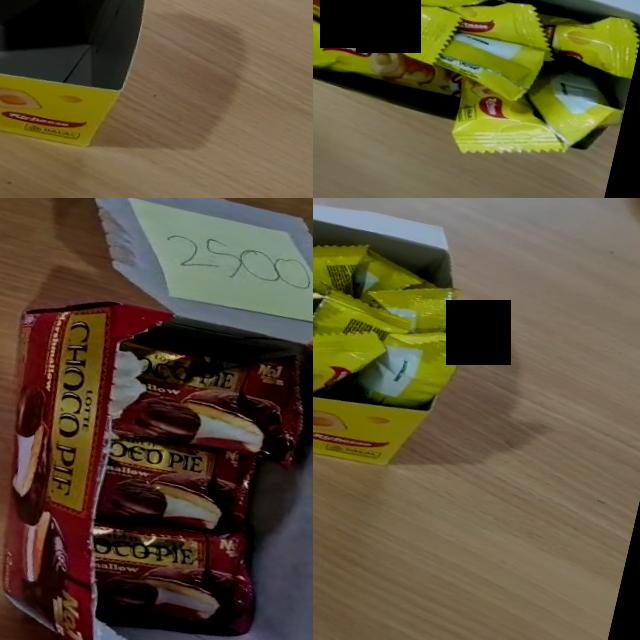Ahh: (313, 9, 469, 107), (444, 74, 575, 176), (513, 52, 632, 159), (346, 332, 486, 409), (313, 0, 464, 68), (427, 24, 548, 107), (524, 0, 640, 79), (437, 0, 566, 63), (313, 289, 407, 339), (313, 332, 382, 392), (368, 287, 458, 332), (353, 249, 423, 301), (313, 246, 366, 293)
Chocopie: (99, 315, 313, 472), (72, 499, 272, 640), (94, 422, 259, 546)
